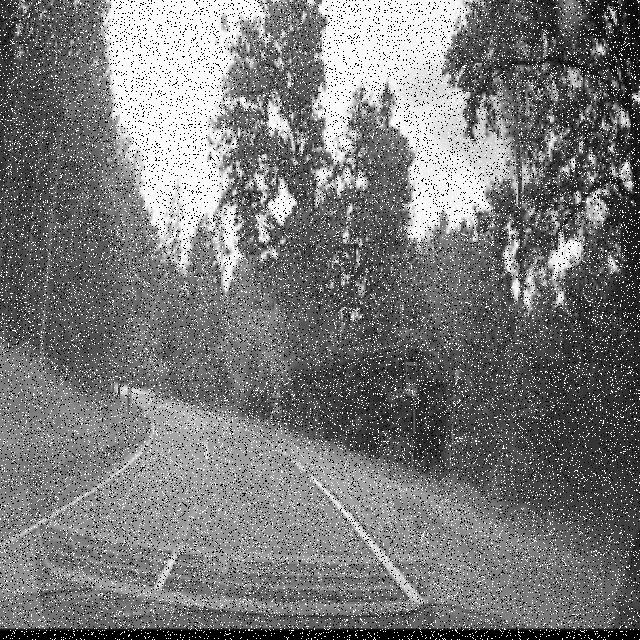clear-road: (65, 394, 366, 552)
